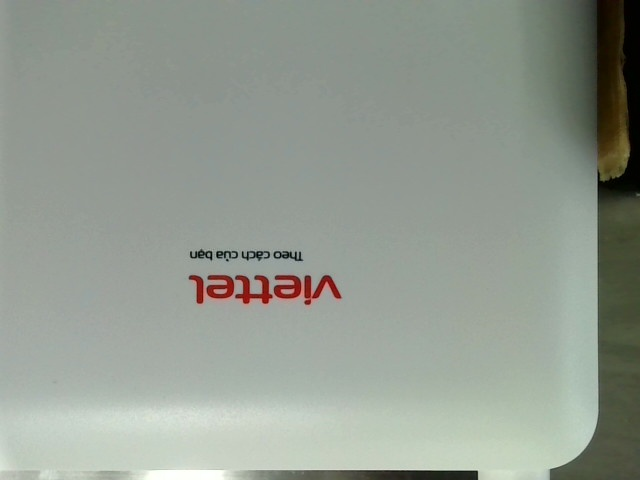AY_Viettel: (182, 248, 345, 306)
